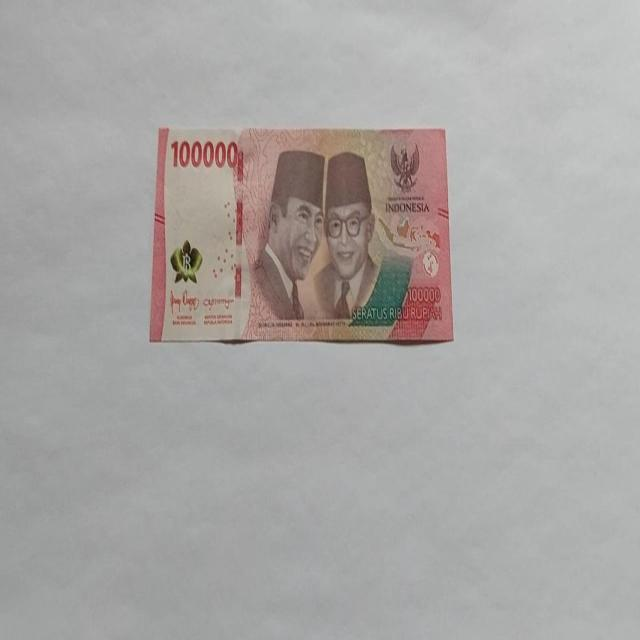Kertas: (149, 123, 455, 345), (170, 136, 242, 172)
